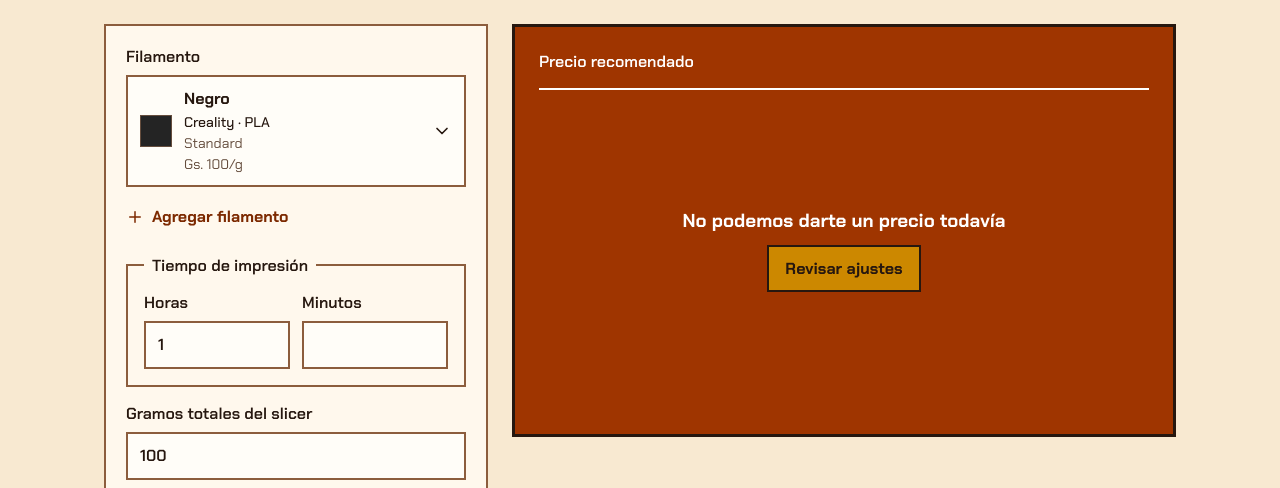
Test: combines visual brand/material filters and quotes only the exact chosen spool
Click the button with aria-label "Filamento" at point(156, 131), box [126,75,466,187]
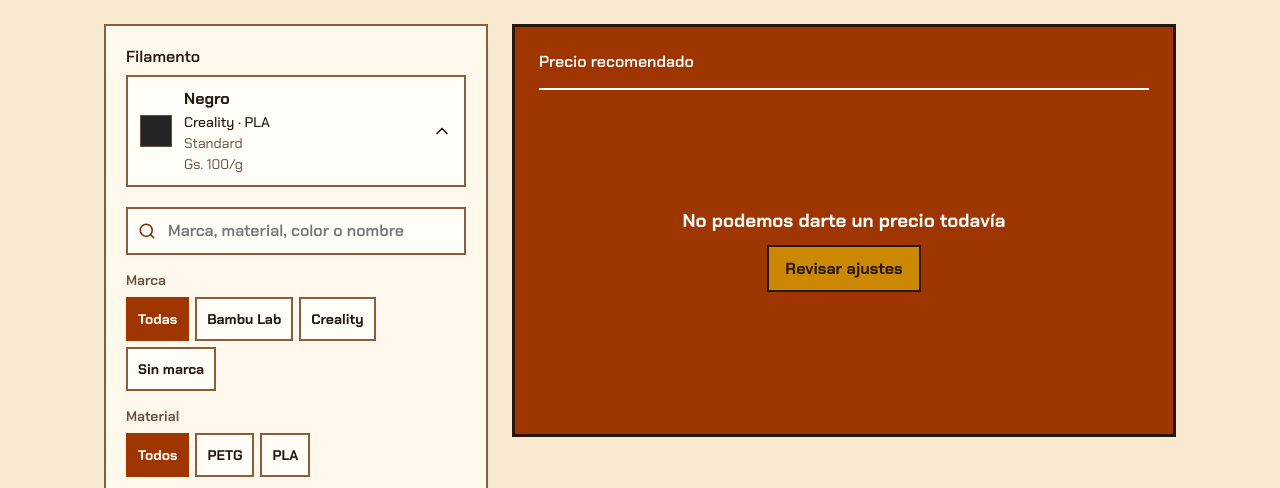
Click the button with aria-label "Filtrar marca Creality" at point(337, 319), box [299,297,376,341]
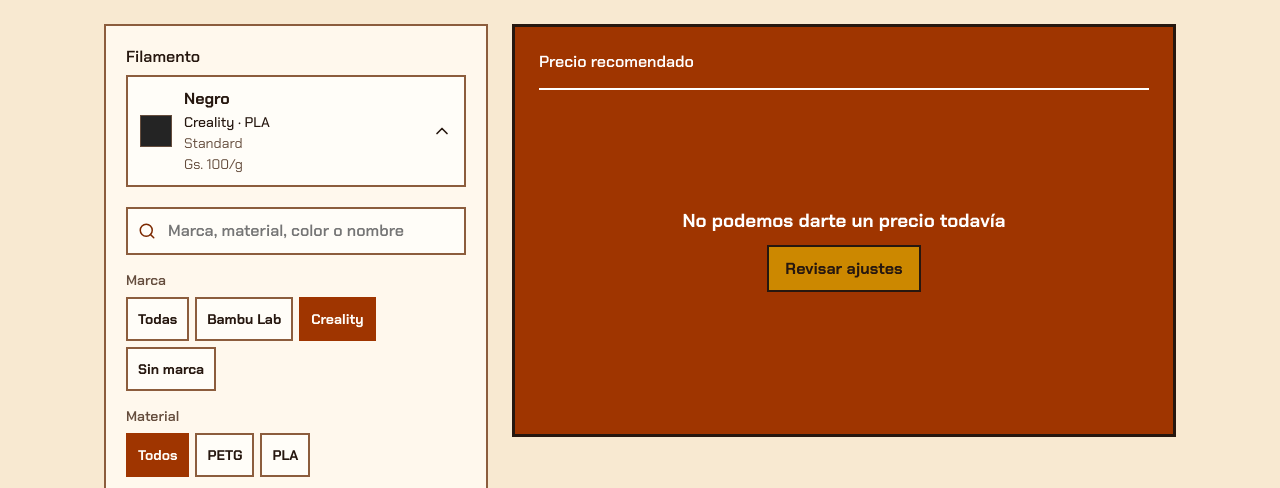
Click the button with aria-label "Filtrar material PLA" at point(285, 455), box [260,433,310,477]
(page scrolled)
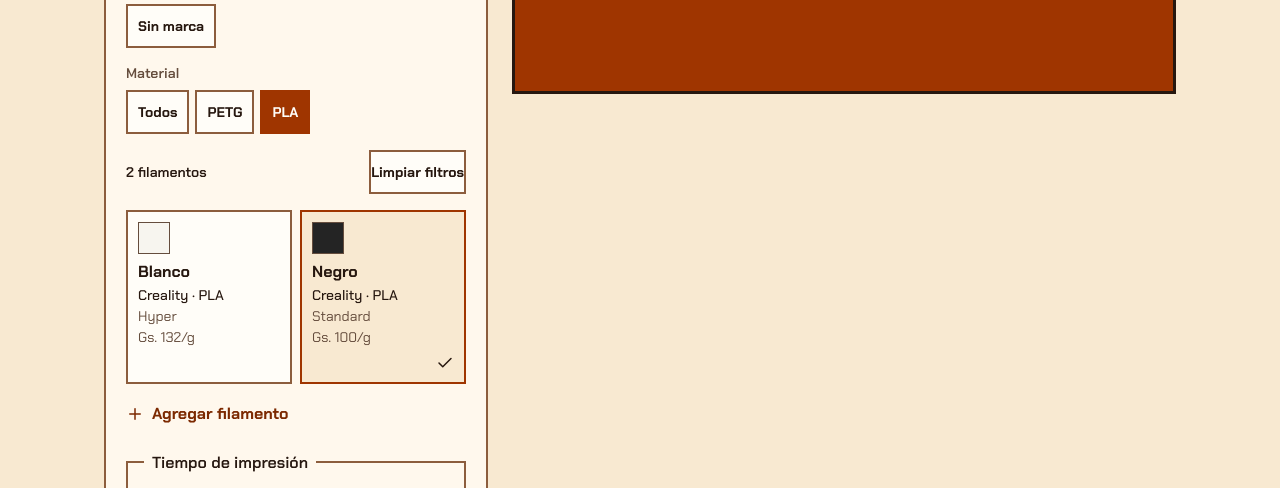
Now the number of buttons named "Elegir" is 2
Click the button with aria-label "Elegir Creality PLA Blanco" at point(209, 297), box [126,210,292,384]
(page scrolled)
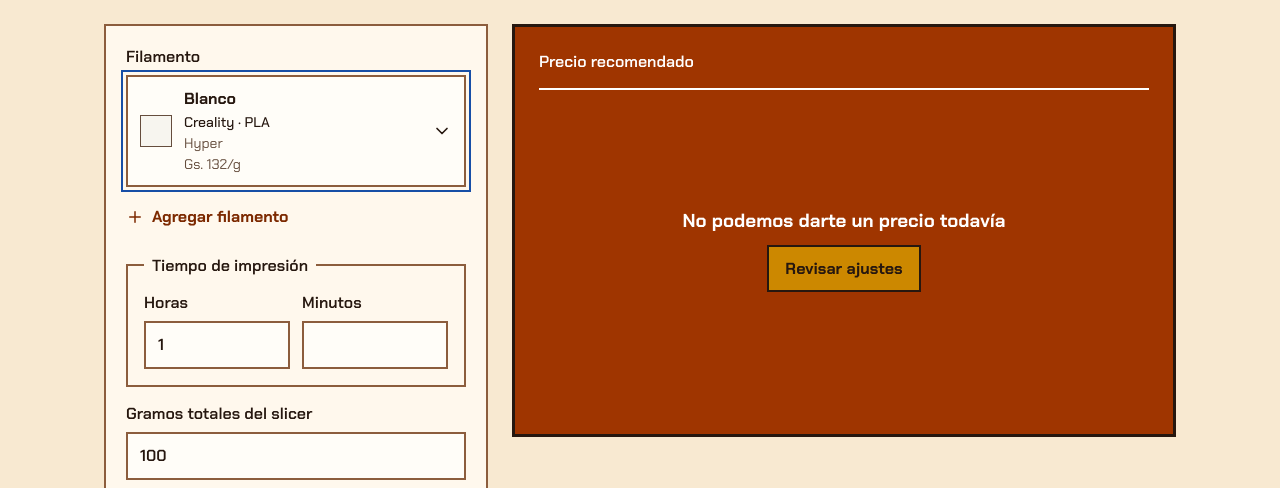
Now the button with aria-label "Filamento" shows "Hyper", box [126,75,466,187]
Now the button with aria-label "Filamento" is collapsed, box [126,75,466,187]
